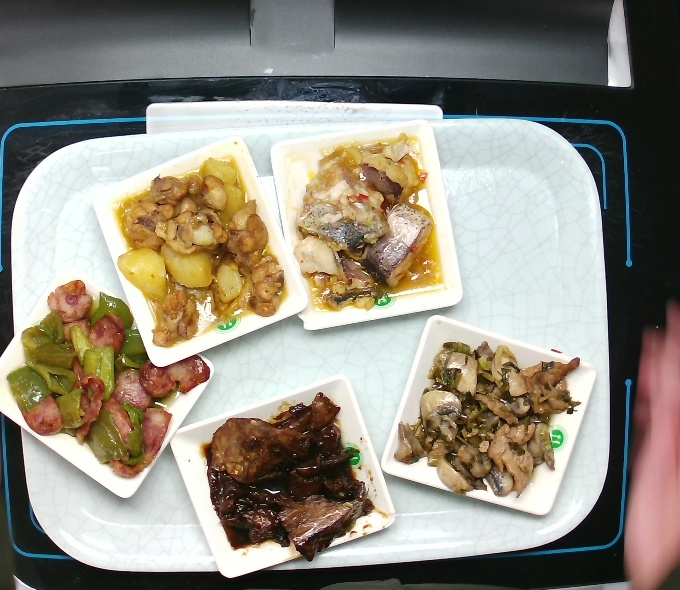wcq-JiangZhiYa: (206, 389, 376, 563)
wcq-MoGuRouPian: (391, 337, 584, 500)
wcq-QingJiaoXiangChang: (6, 277, 210, 481)
wcq-SuanCaiYu: (295, 134, 445, 311)
wcq-TuDouJiKuai: (117, 157, 286, 348)
